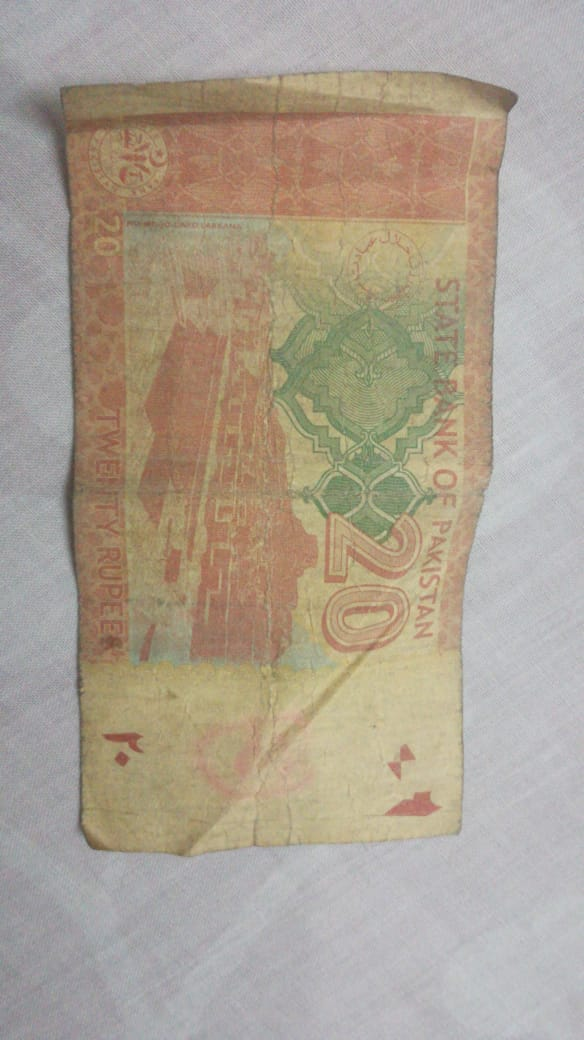20 rupee: (46, 73, 529, 887)
